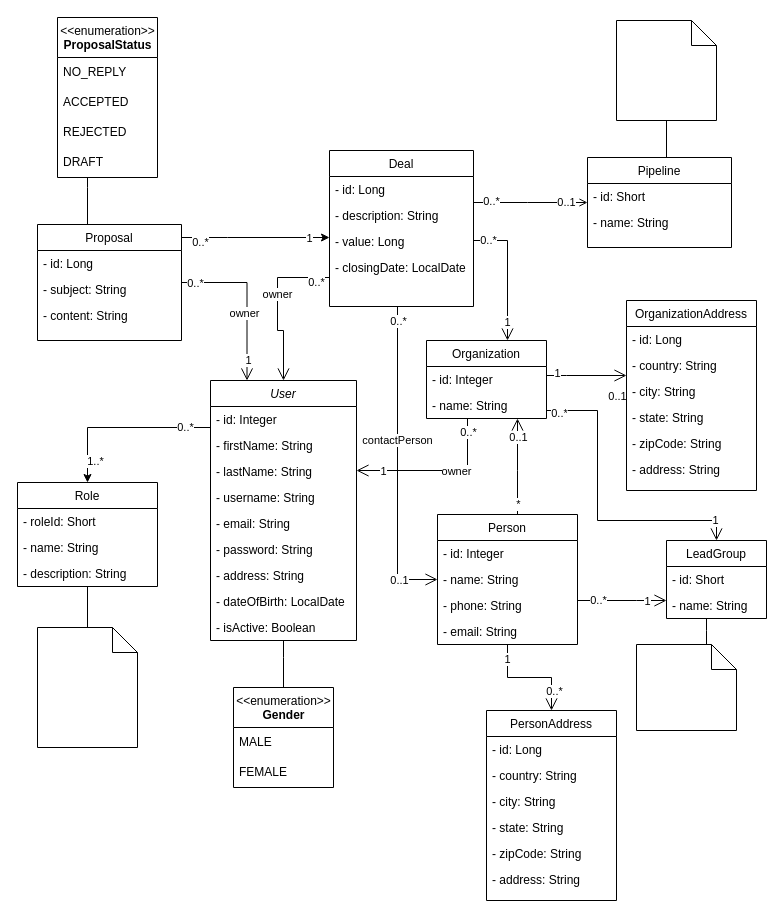
The diagram is 784 pixels wide and 918 high, and some of its shapes have lost their labels. Here are the shapes that lost their labels. From the top down, the centre of each, then its label:
(666,70): name can be: - ADVERTISING - PROMOTION - BRANDING
(87,687): name can be: - ADMIN - MANAGER - AGENT - CLIENT
(686,687): name can be: - customer - lead
